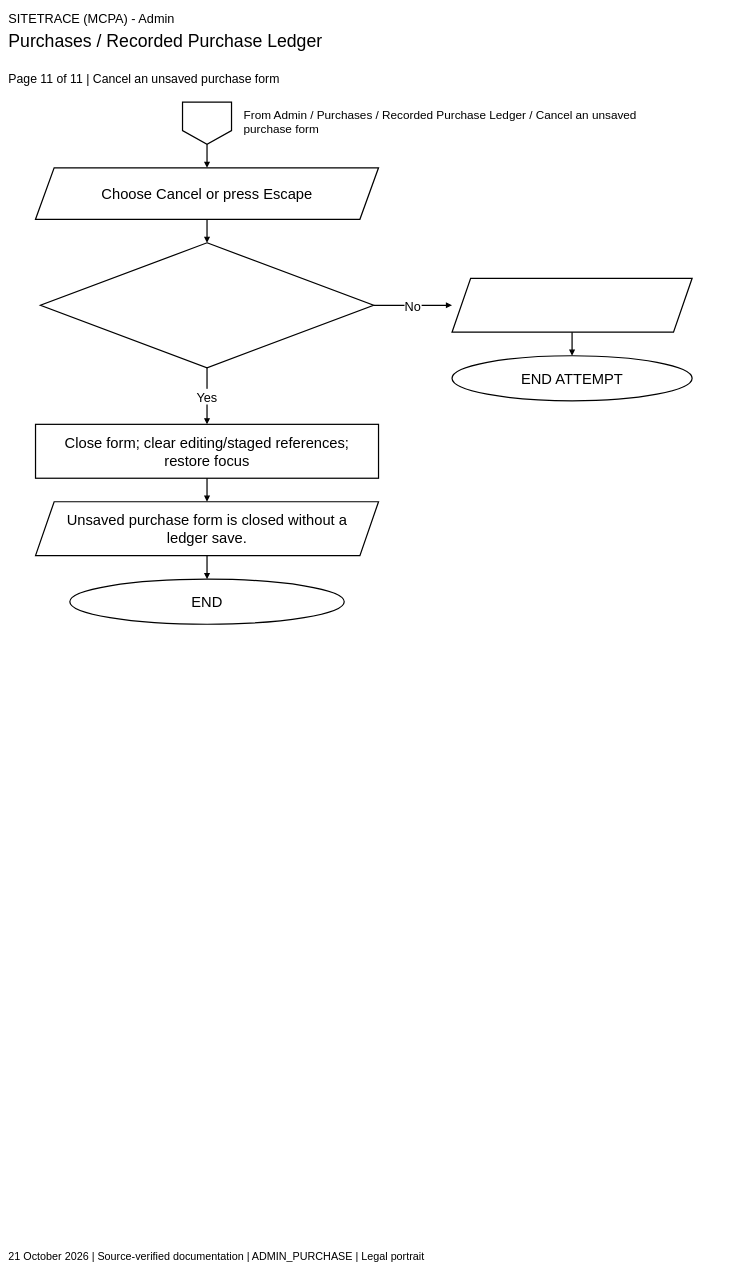
This 737x1274 diagram has some shape labels left out. The centre of each missing label's shape, as x and y in pixels:
Discard unsaved changes when confirmation is required?: point (207, 305)
EE: point (207, 123)
Keep the purchase form and its current edits: point (572, 305)
